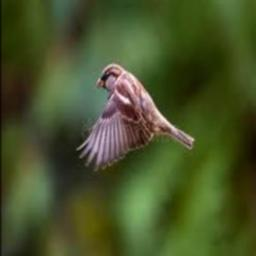Sparrow: (76, 62, 193, 171)
